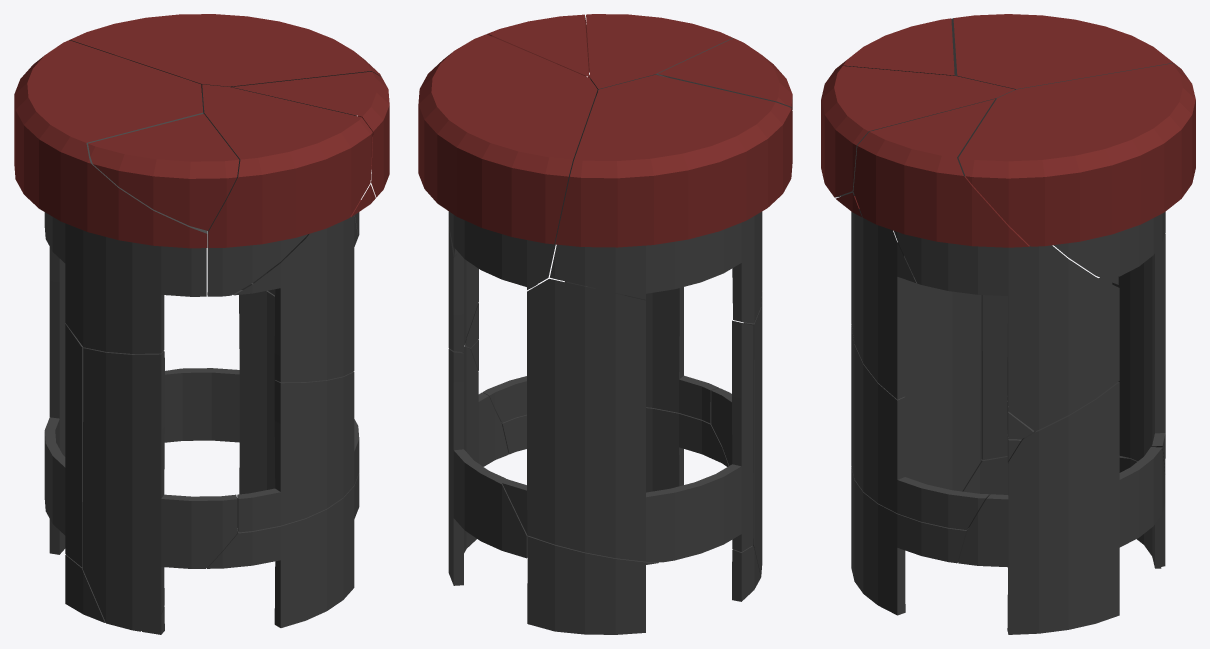
Rendered from Barhocker_kaputt.glb.
3 renders of one model, left to right at view 1: azimuth 30°, elevation 25°; view 2: azimuth 150°, elevation 25°; view 3: azimuth 270°, elevation 25°, orthographic.
Parts seen in each view (by area): view 1: Barhocker_cell.004, Barhocker_cell.010, Barhocker_cell.009, Barhocker_cell.005, Barhocker_cell.002, Barhocker_cell.001, Barhocker_cell.015, Barhocker_cell.011, Barhocker_cell.006, Barhocker_cell.007, Barhocker_cell.008, Barhocker_cell; view 2: Barhocker_cell.007, Barhocker_cell.004, Barhocker_cell.005, Barhocker_cell.002, Barhocker_cell.012, Barhocker_cell.001, Barhocker_cell.009, Barhocker_cell.008, Barhocker_cell.006, Barhocker_cell.011, Barhocker_cell.010, Barhocker_cell; view 3: Barhocker_cell.008, Barhocker_cell.005, Barhocker_cell.002, Barhocker_cell.010, Barhocker_cell.007, Barhocker_cell.004, Barhocker_cell.009, Barhocker_cell.001, Barhocker_cell.015, Barhocker_cell.006, Barhocker_cell.011, Barhocker_cell (+1 smaller).
Part boxes in pixels (x1,y1,x2,y2): Barhocker_cell.004: (14,40,207,353); Barhocker_cell.010: (82,347,237,631); Barhocker_cell.009: (202,84,372,296); Barhocker_cell.005: (69,14,381,115); Barhocker_cell.002: (164,283,275,494); Barhocker_cell.001: (237,372,359,532); Barhocker_cell.015: (233,184,375,382); Barhocker_cell.011: (88,114,239,230); Barhocker_cell.006: (207,473,359,627); Barhocker_cell.007: (44,247,83,566); Barhocker_cell.008: (232,71,389,295); Barhocker_cell: (65,555,105,622); Barhocker_cell.007: (502,279,753,562); Barhocker_cell.004: (550,75,792,323); Barhocker_cell.005: (418,34,597,289); Barhocker_cell.002: (448,346,528,585); Barhocker_cell.012: (527,536,658,634); Barhocker_cell.001: (483,286,718,423); Barhocker_cell.009: (586,14,733,95); Barhocker_cell.008: (448,14,589,351); Barhocker_cell.006: (501,407,728,492); Barhocker_cell.011: (658,38,792,109); Barhocker_cell.010: (711,291,762,576); Barhocker_cell: (732,545,760,601); Barhocker_cell.008: (853,99,1119,431); Barhocker_cell.005: (958,63,1195,284); Barhocker_cell.002: (958,382,1165,634); Barhocker_cell.010: (897,242,981,491); Barhocker_cell.007: (981,233,1165,474); Barhocker_cell.004: (951,14,1184,176); Barhocker_cell.009: (821,66,1015,197); Barhocker_cell.001: (851,324,989,529); Barhocker_cell.015: (835,192,916,399); Barhocker_cell.006: (851,467,968,615); Barhocker_cell.011: (832,18,954,75); Barhocker_cell: (962,456,1007,496).
Bounding box in the file's own units: 0.7159 × 1.01 × 0.7159.
